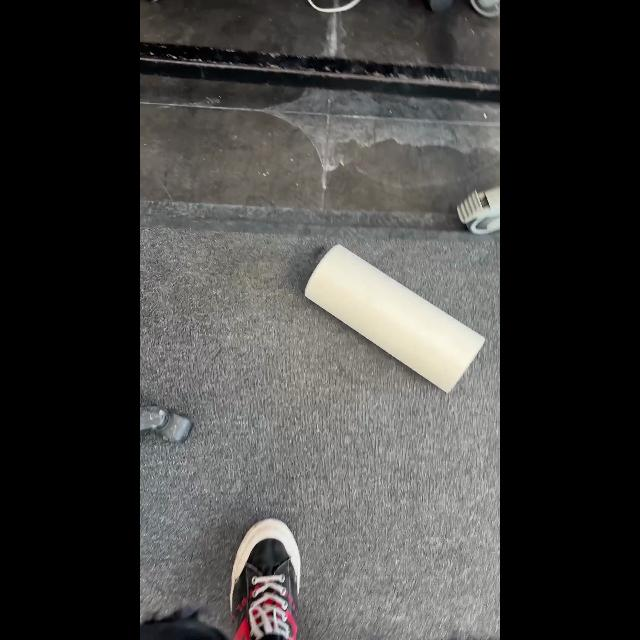CORAL: (303, 242, 485, 394)
